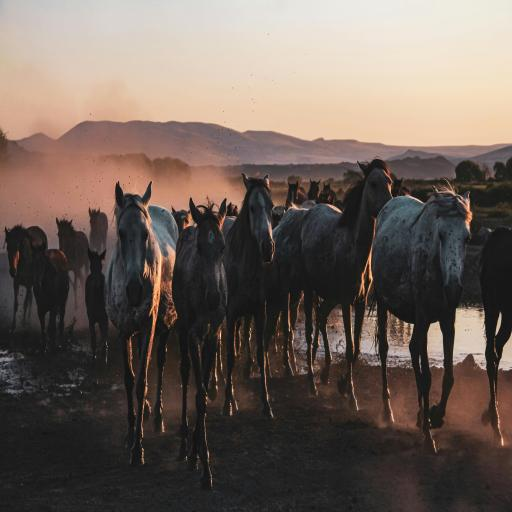horse: (282, 152, 401, 414), (367, 176, 473, 459), (105, 172, 178, 466), (170, 195, 230, 493), (224, 166, 280, 422), (477, 210, 512, 453), (4, 223, 48, 342), (28, 240, 71, 355), (54, 203, 90, 310), (84, 246, 110, 364), (88, 199, 108, 248), (172, 200, 196, 237), (286, 170, 302, 213), (321, 178, 341, 208), (308, 180, 323, 206)
